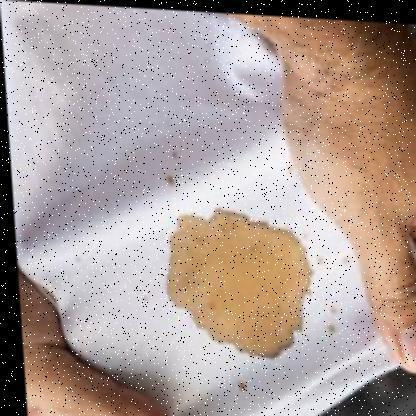coffee: (169, 214, 309, 358)
